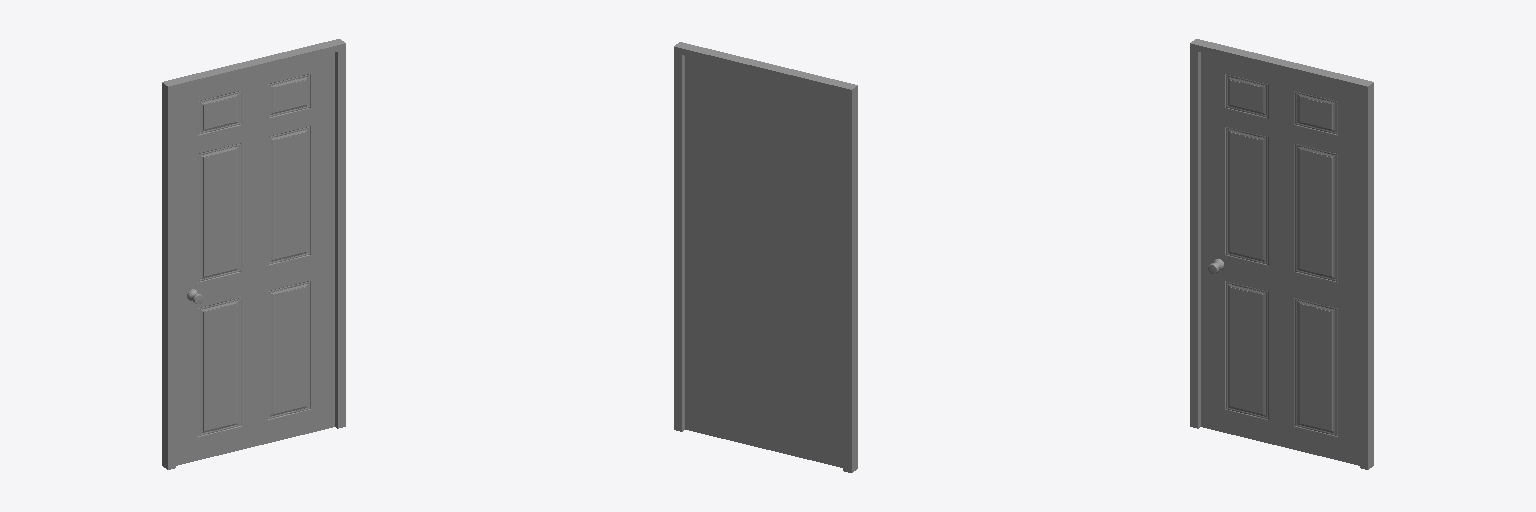
File: basic_door.obj
3 views of the same model, side by side, from view 1: azimuth 30°, elevation 25°; view 2: azimuth 150°, elevation 25°; view 3: azimuth 330°, elevation 25° (orthographic).
Parts seen in each view (by area): view 1: Door_Cube, Door_Frame_Cube.001; view 2: Door_Cube, Door_Frame_Cube.001; view 3: Door_Cube, Door_Frame_Cube.001.
Boxes of the visible parts, x1,y1,x2,y2 form: Door_Cube: [176, 52, 334, 465]; Door_Frame_Cube.001: [162, 39, 345, 469]; Door_Cube: [685, 56, 842, 467]; Door_Frame_Cube.001: [674, 42, 857, 472]; Door_Cube: [1201, 52, 1359, 465]; Door_Frame_Cube.001: [1190, 39, 1373, 469].
Size of the model in its own units: 1 by 2.06 by 0.1054.